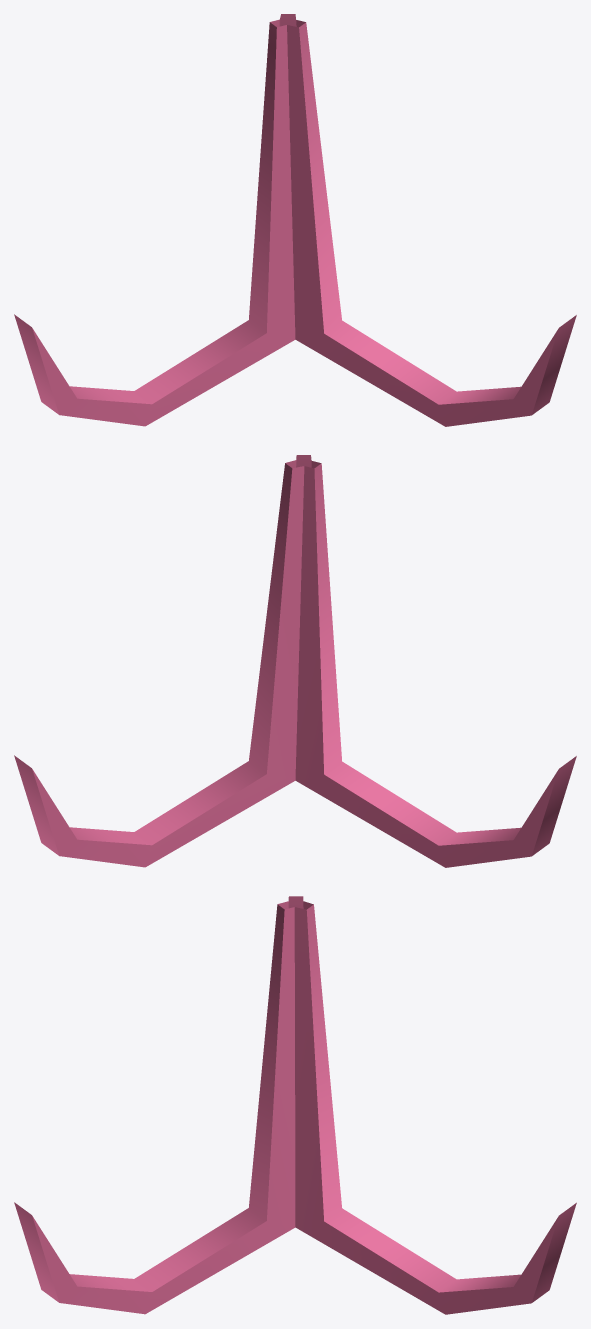
Rendered from fish_hook.fbx.
The picture shows the model from 3 angles, top to bottom: view 1: azimuth 30°, elevation 25°; view 2: azimuth 150°, elevation 25°; view 3: azimuth 270°, elevation 25°; orthographic projection.
Visible parts, largest first — view 1: fish_hook; view 2: fish_hook; view 3: fish_hook.
Boxes of the visible parts, x1,y1,x2,y2 form: fish_hook: [14, 14, 576, 426]; fish_hook: [14, 455, 576, 867]; fish_hook: [14, 896, 576, 1314].
Bounding box in the file's own units: 25.66 × 21 × 29.6.
